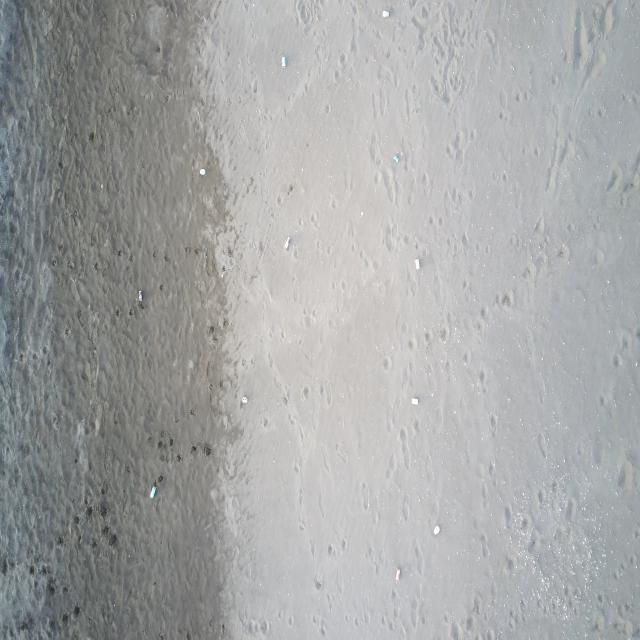Garbage: (148, 484, 156, 497), (280, 55, 287, 68), (392, 152, 400, 163), (283, 236, 289, 249), (433, 524, 440, 535), (395, 567, 400, 580), (240, 395, 247, 404), (136, 289, 141, 301), (413, 258, 419, 268), (382, 9, 390, 16), (411, 396, 417, 404), (200, 167, 204, 175), (360, 211, 363, 216)
